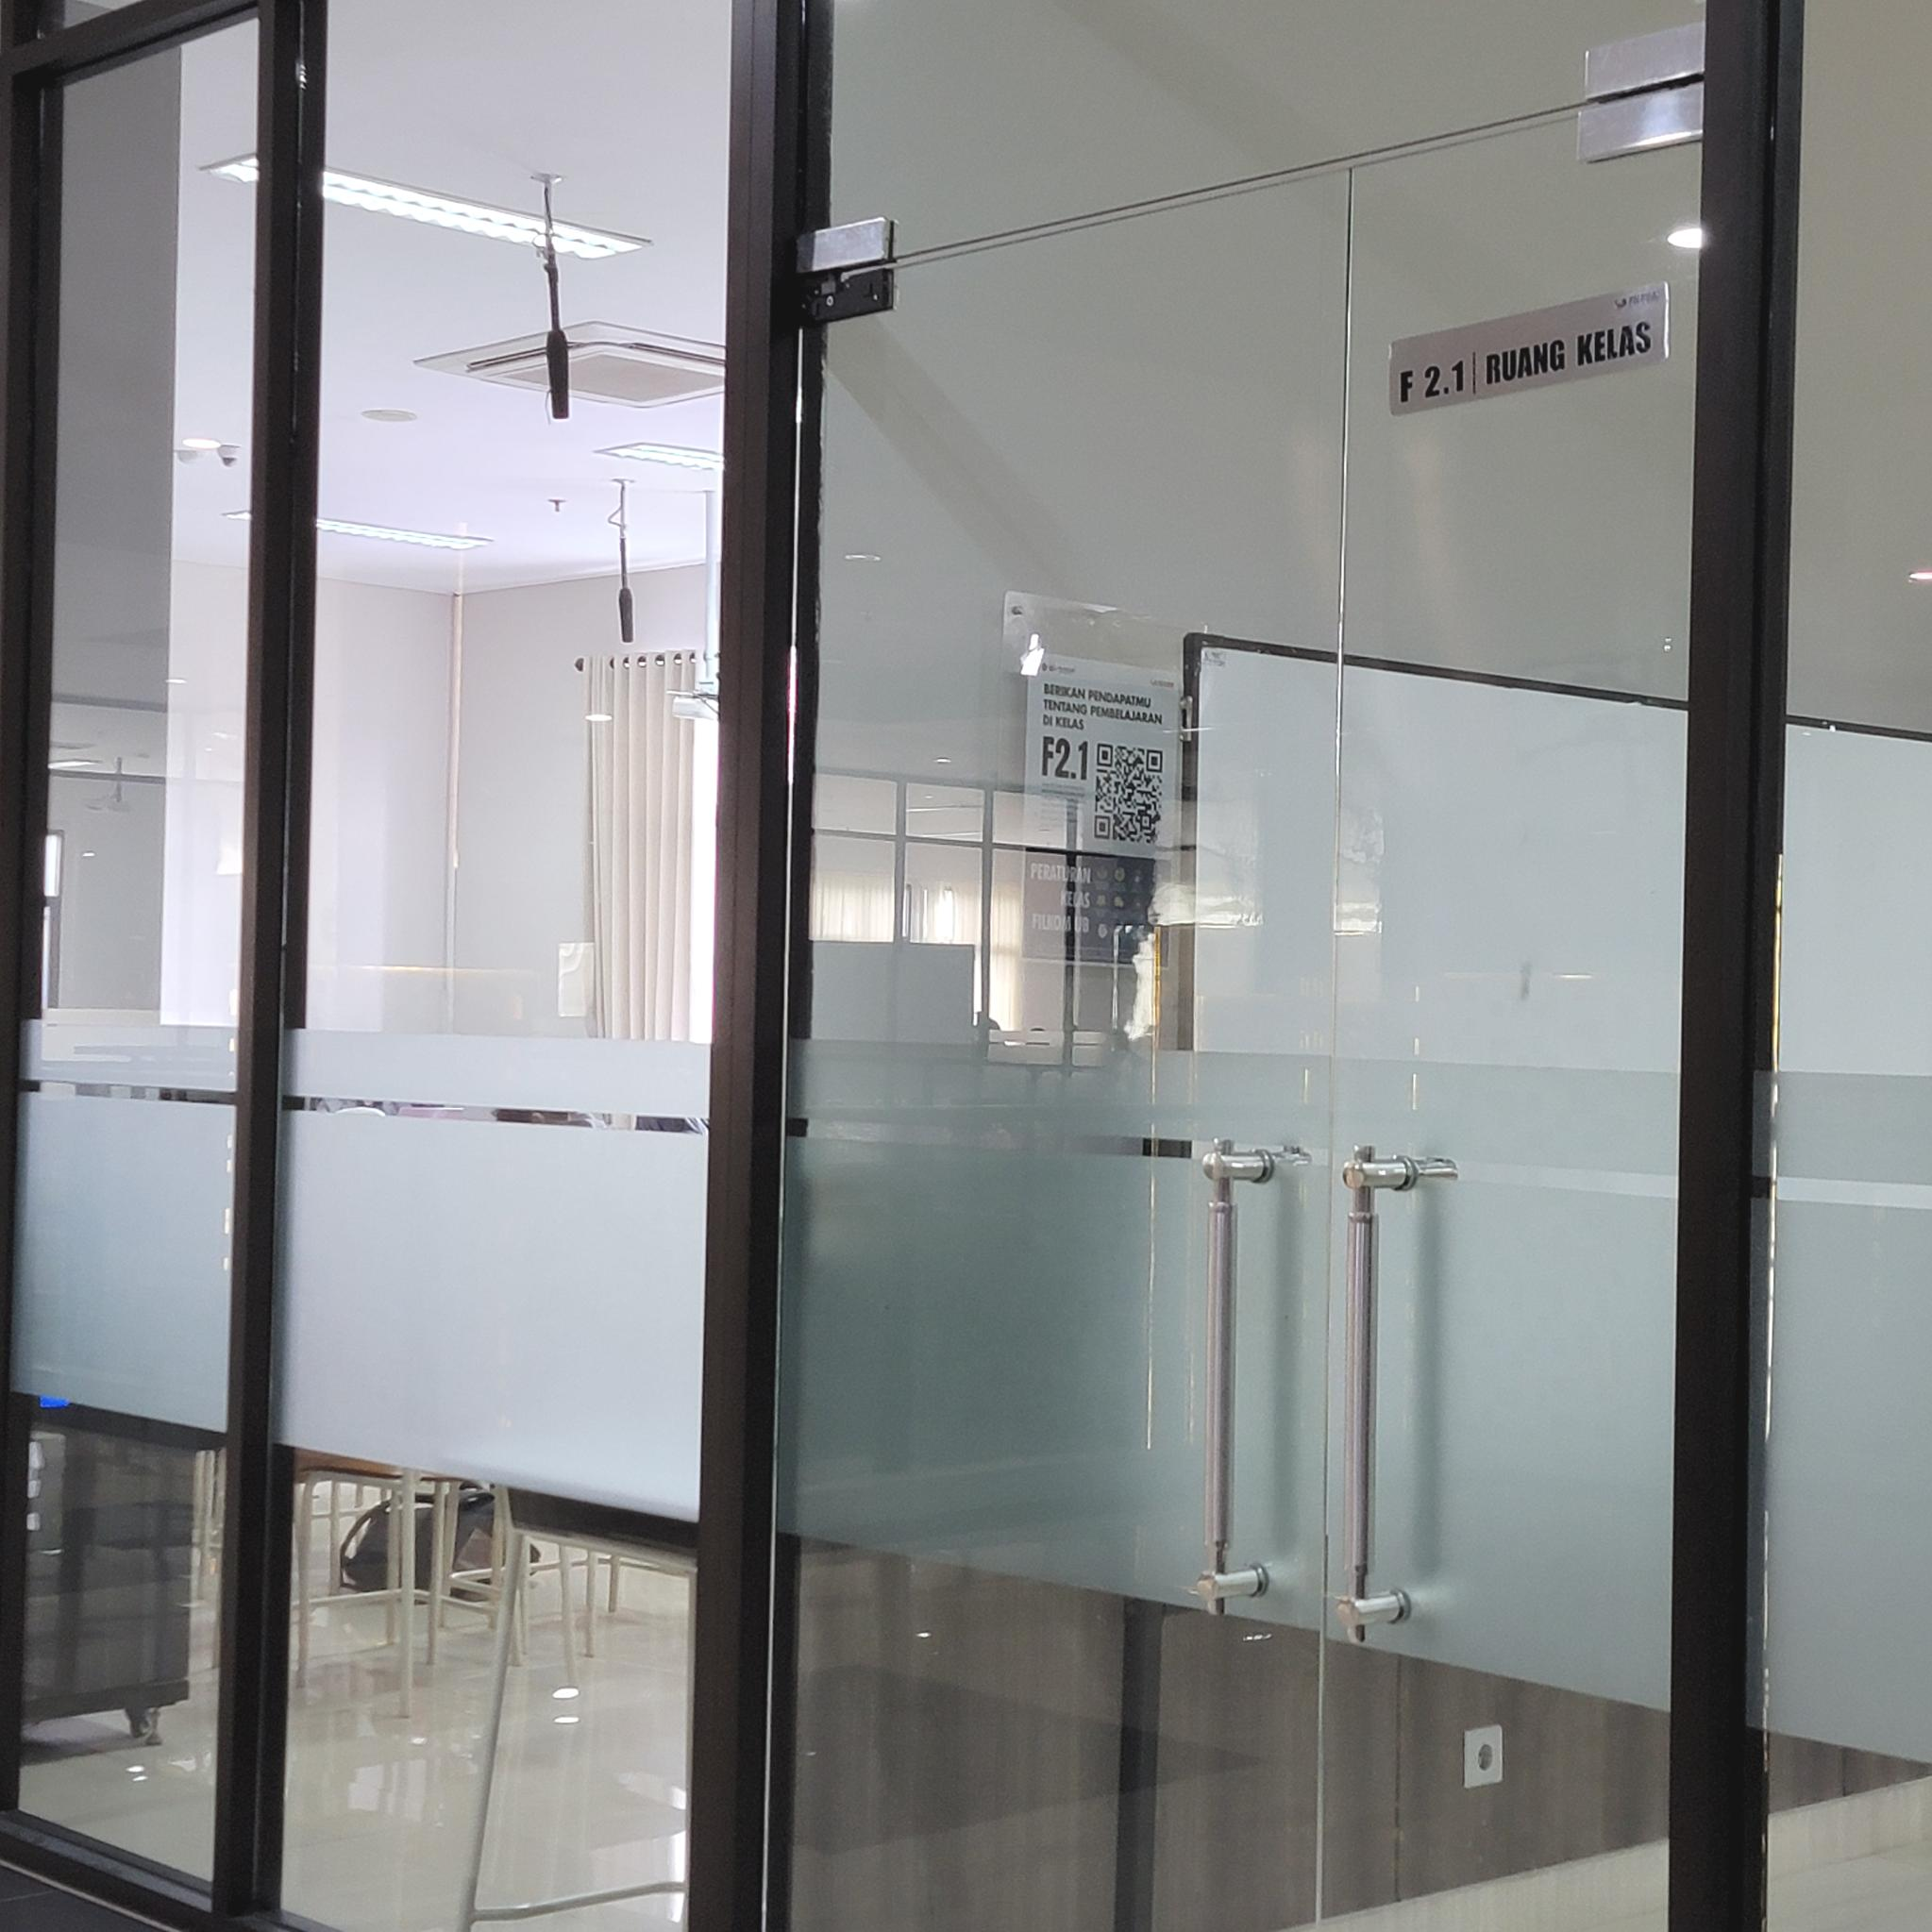plate: (1385, 281, 1670, 421)
